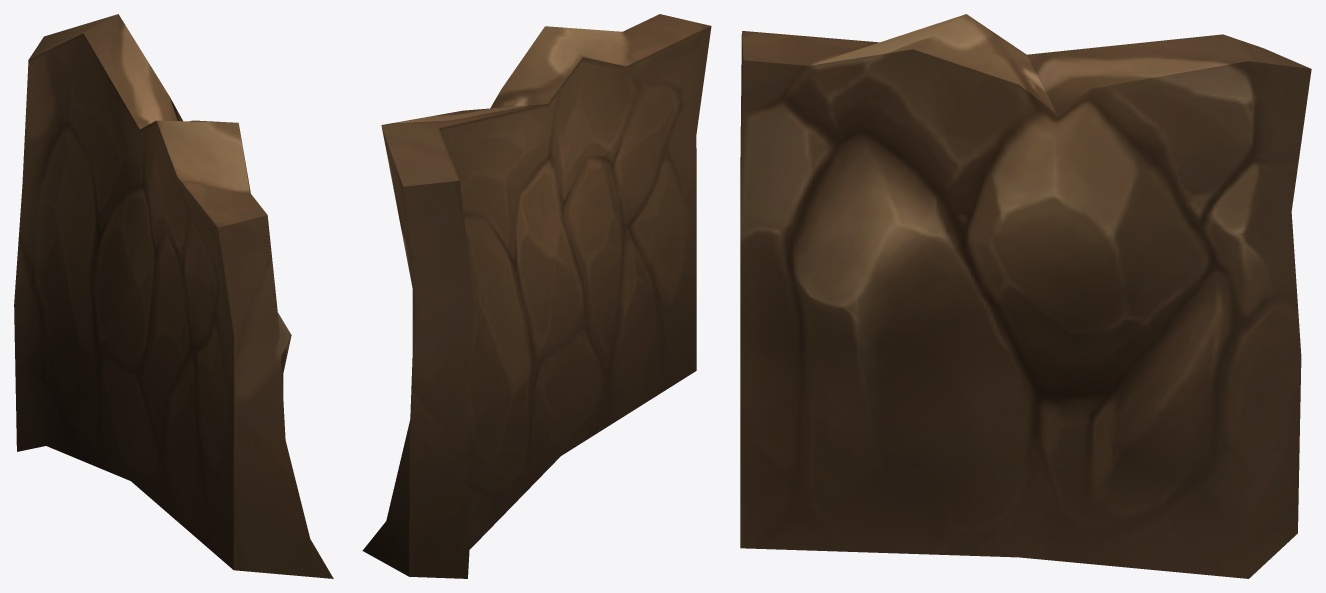
Rendered from Wall_cave_first_02.fbx.
The picture shows the model from 3 angles, left to right: view 1: azimuth 30°, elevation 25°; view 2: azimuth 150°, elevation 25°; view 3: azimuth 270°, elevation 25°; orthographic projection. The views are drawn at different scales.
Visible parts, largest first — view 1: Wall_cave_first_02; view 2: Wall_cave_first_02; view 3: Wall_cave_first_02.
Boxes of the visible parts, bbox=[...] form: Wall_cave_first_02: bbox=[14, 14, 333, 578]; Wall_cave_first_02: bbox=[362, 14, 711, 578]; Wall_cave_first_02: bbox=[740, 14, 1311, 578].
Size of the model in its own units: 131 by 403 by 412.
